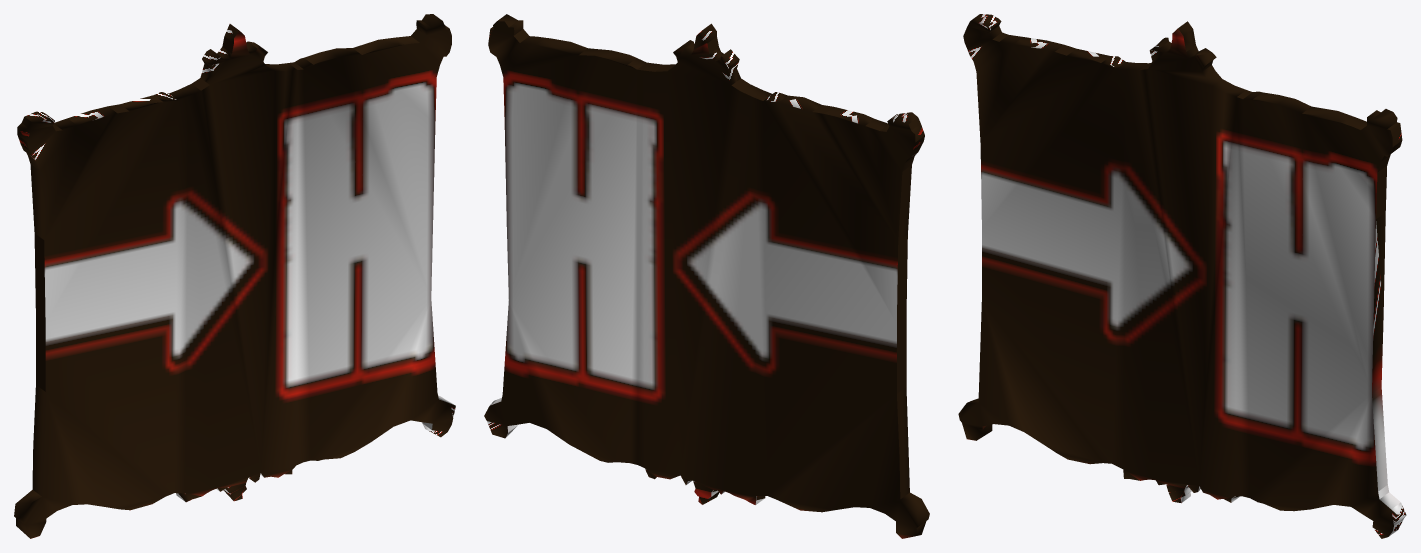
The model's file is list.ico.obj.
3 views of the same model, side by side, from view 1: azimuth 30°, elevation 25°; view 2: azimuth 150°, elevation 25°; view 3: azimuth 330°, elevation 25° (orthographic).
Bounding box in the file's own units: 4.54 × 4.72 × 0.1755.
